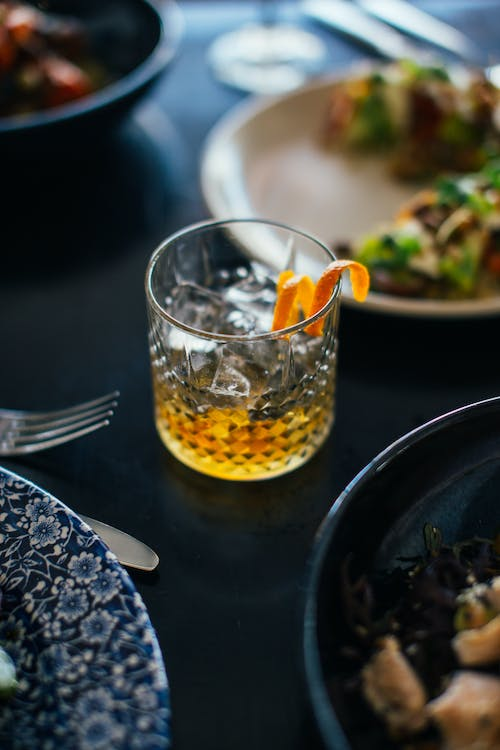alcohol: (142, 215, 344, 481)
knife: (70, 511, 161, 572)
